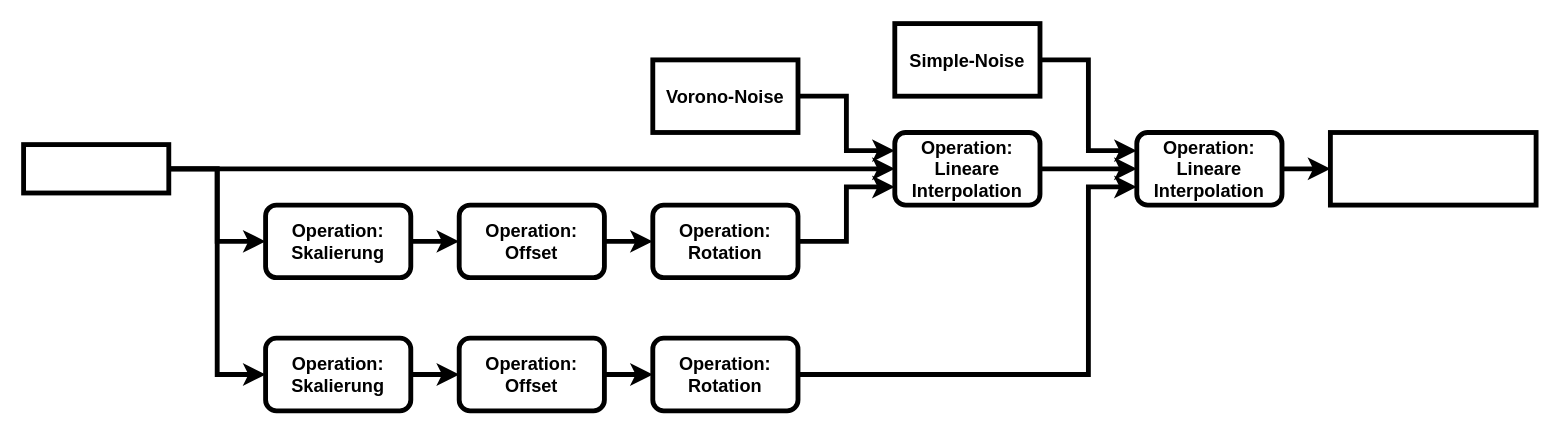
The diagram is 1558 pixels wide and 433 high, and some of its shapes have lost their labels. The shapes that lost their labels are listed below. From the top down, each one's centre as x and y in pixels, then its label:
pixel 96 168: Input: Textur
pixel 1432 168: Output: transformierte Textur
